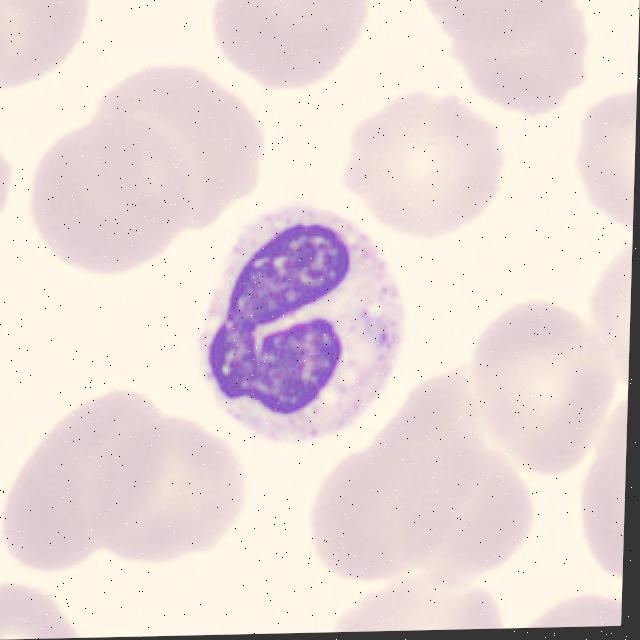neutrophil: (192, 199, 410, 453)
rbc: (316, 374, 499, 584), (66, 77, 261, 241), (0, 391, 169, 566), (21, 110, 182, 275), (480, 308, 613, 471), (356, 91, 502, 233), (86, 426, 249, 551), (438, 0, 592, 109), (433, 440, 542, 575), (212, 0, 377, 85), (325, 573, 505, 632), (570, 83, 637, 232), (578, 392, 628, 579), (0, 0, 98, 89), (591, 238, 633, 381), (0, 574, 75, 640), (518, 586, 622, 628), (0, 134, 7, 245)
